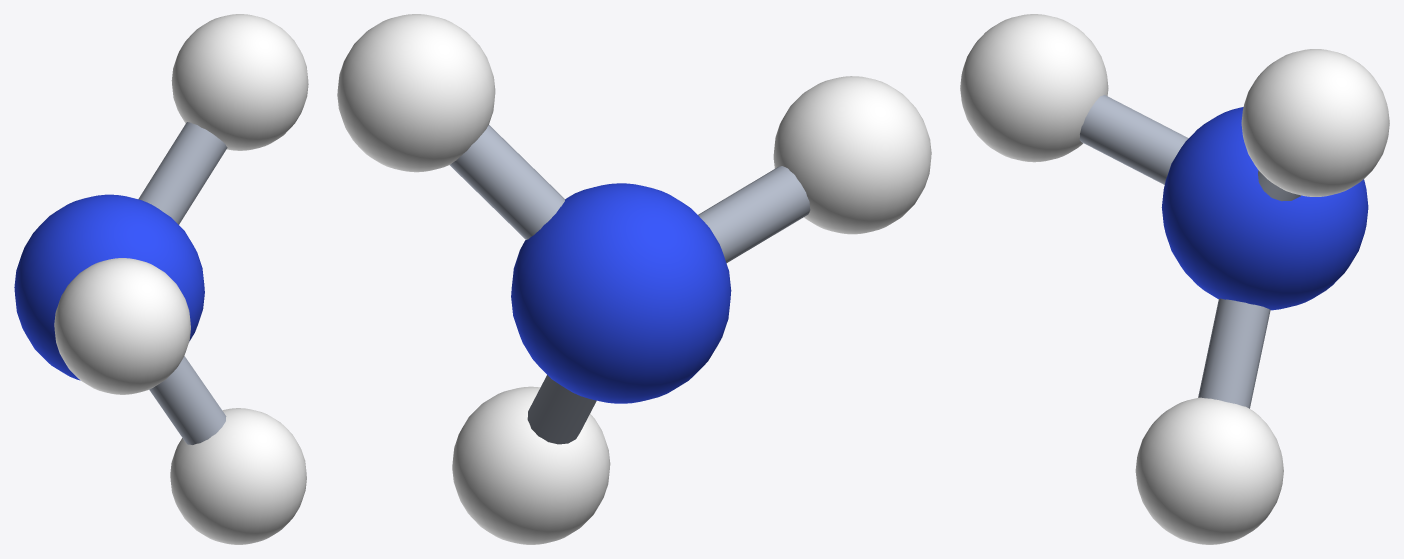
3 renders of one model, left to right at view 1: azimuth 30°, elevation 25°; view 2: azimuth 150°, elevation 25°; view 3: azimuth 270°, elevation 25°, orthographic. The views are drawn at different scales.
Visible parts, largest first — view 1: H (×3), N, bond (×2); view 2: H (×3), N, bond (×3); view 3: H (×3), N, bond (×2).
Part boxes in pixels (box(x1,y1,x2,y2)): H (×3): box(54, 14, 308, 544); N: box(14, 194, 204, 380); bond (×2): box(138, 122, 227, 444); H (×3): box(337, 14, 931, 544); N: box(511, 183, 731, 403); bond (×3): box(450, 125, 810, 444); H (×3): box(960, 14, 1389, 544); N: box(1161, 107, 1368, 310); bond (×2): box(1079, 95, 1270, 408).
Size of the model in its own units: 0.1793 by 0.22 by 0.1683.
